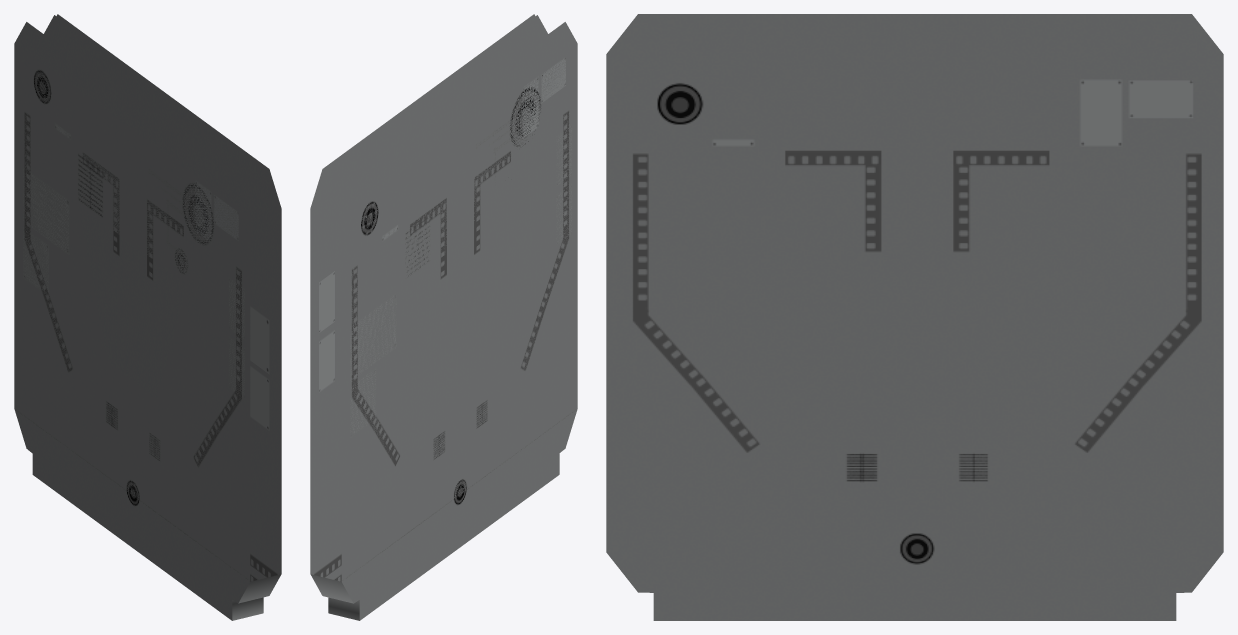
The model's file is Doors_2.FBX.
The picture shows the model from 3 angles, left to right: view 1: azimuth 30°, elevation 25°; view 2: azimuth 150°, elevation 25°; view 3: azimuth 270°, elevation 25°; orthographic projection. The views are drawn at different scales.
Parts seen in each view (by area): view 1: SlidingDoor_NoWindow, SlidingDoor_With_Window; view 2: SlidingDoor_NoWindow, SlidingDoor_With_Window; view 3: SlidingDoor_NoWindow, SlidingDoor_With_Window.
Boxes of the visible parts, x1,y1,x2,y2 form: SlidingDoor_NoWindow: (14,14,281,620); SlidingDoor_With_Window: (14,15,278,620); SlidingDoor_NoWindow: (310,14,577,620); SlidingDoor_With_Window: (313,15,577,620); SlidingDoor_NoWindow: (606,14,1223,620); SlidingDoor_With_Window: (606,31,1223,73).
Size of the model in its own units: 0.2821 by 3.87 by 3.69.
1 material, 1 textured.
